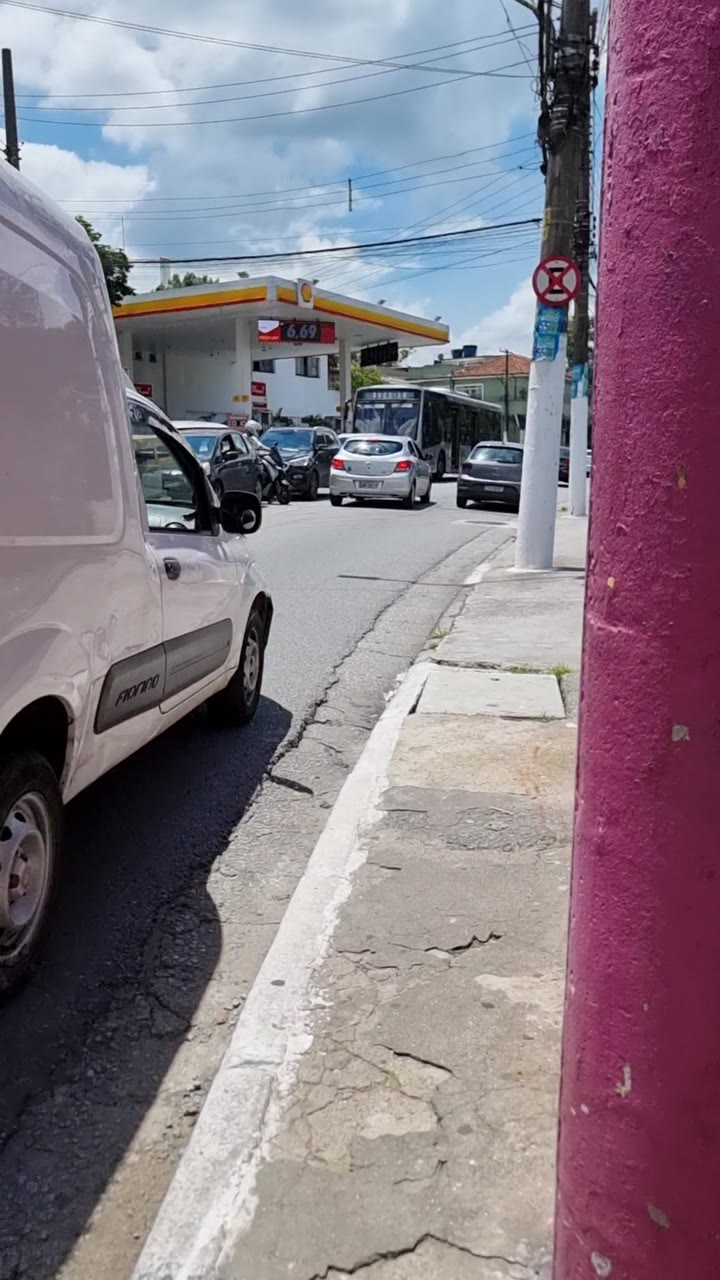desnivel: (410, 640, 576, 717)
obstaculo: (562, 0, 720, 1280), (518, 0, 576, 576)
